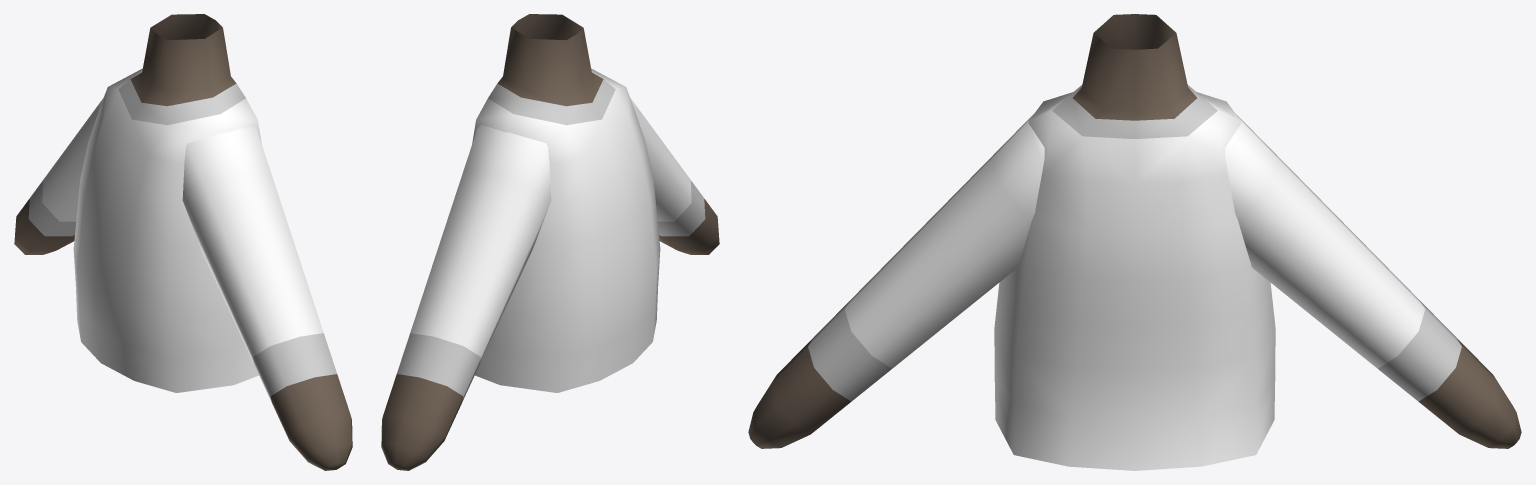
File: pullover.fbx
3 renders of one model, left to right at view 1: azimuth 30°, elevation 25°; view 2: azimuth 150°, elevation 25°; view 3: azimuth 270°, elevation 25°, orthographic. The views are drawn at different scales.
Parts seen in each view (by area): view 1: Cube.003; view 2: Cube.003; view 3: Cube.003.
Part boxes in pixels (box(x1,y1,x2,y2)): Cube.003: box(14, 14, 352, 470); Cube.003: box(381, 14, 719, 470); Cube.003: box(748, 14, 1521, 470).
Size of the model in its own units: 108 by 209 by 351.
